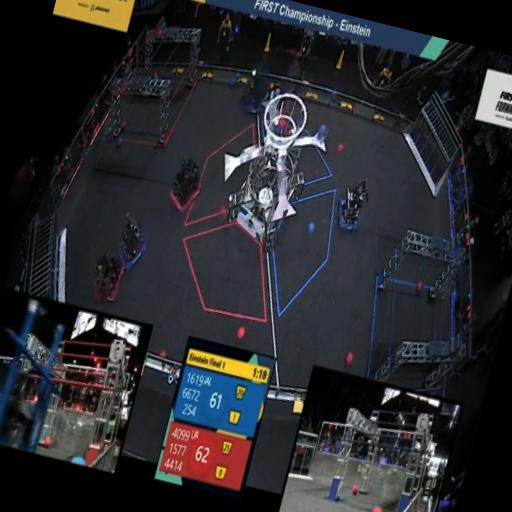robot: (328, 164, 378, 240), (162, 150, 210, 224), (110, 213, 154, 280), (233, 58, 276, 120), (86, 248, 128, 308)
